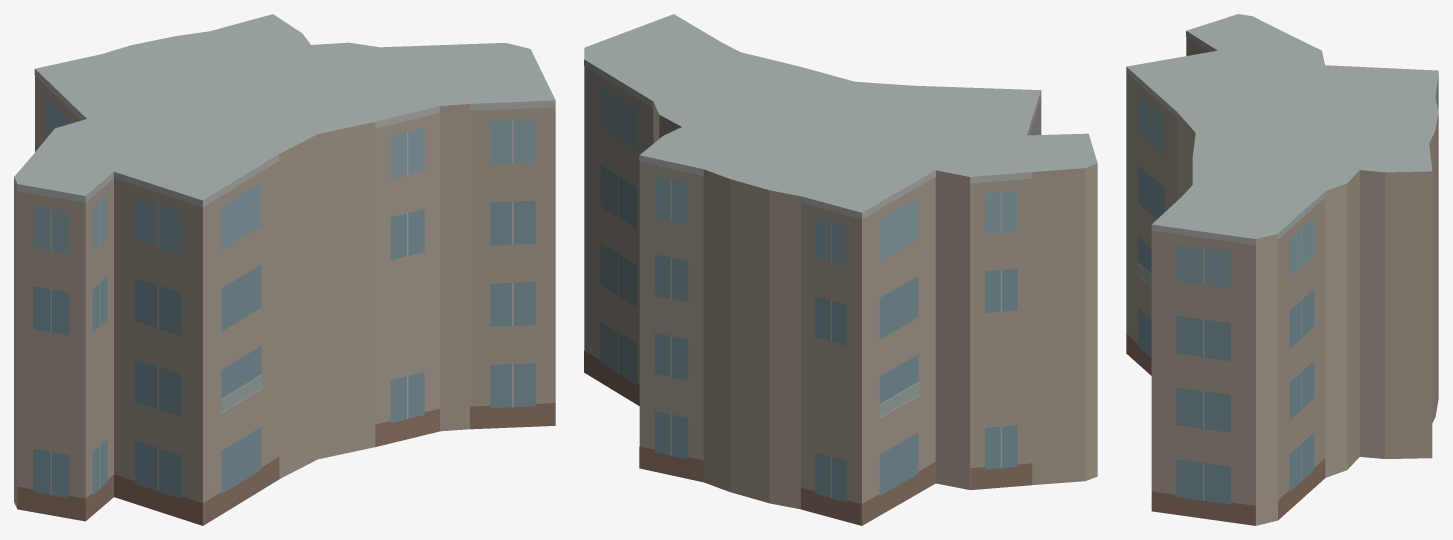
Rendered from survey-upis-32473300.glb.
The picture shows the model from 3 angles, left to right: view 1: azimuth 30°, elevation 25°; view 2: azimuth 150°, elevation 25°; view 3: azimuth 270°, elevation 25°; orthographic projection. The views are drawn at different scales.
Parts seen in each view (by area): view 1: survey-upis-32473300.tmp; view 2: survey-upis-32473300.tmp; view 3: survey-upis-32473300.tmp.
Part boxes in pixels (x1,y1,x2,y2): survey-upis-32473300.tmp: (14,14,555,525); survey-upis-32473300.tmp: (584,14,1097,525); survey-upis-32473300.tmp: (1126,14,1438,525).
Bounding box in the file's own units: 19.54 × 11.6 × 11.46.
